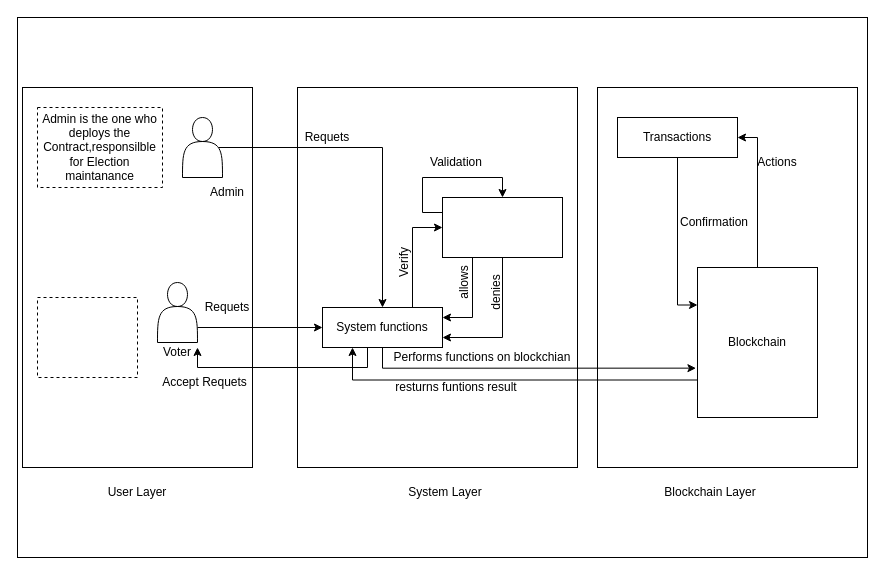
This 885x575 diagram has some shape labels left out. Each missing label, with the centre of its shape:
"Access Control" goes at (x=502, y=227).
"Public Key Private Key" goes at (x=87, y=337).
